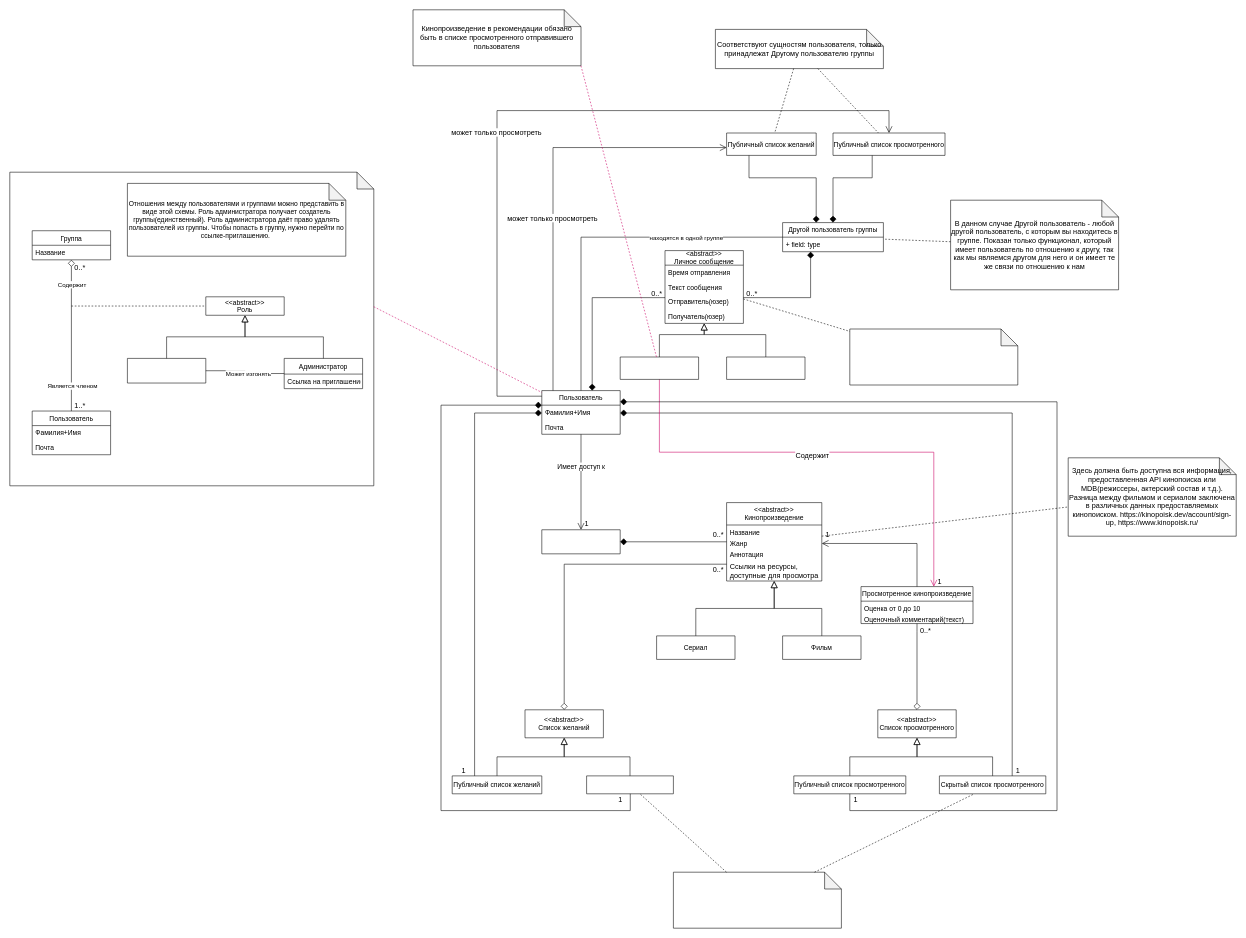
Some shapes in this 1246 by 938 pixel diagram are drawn without their labels. Each missing label, with the centre of its shape:
Глобальный каталог: (580,541)
Личное сообщение не может существовать без отправителя И получателя: (933,356)
Недоступны для любых других пользователей: (757,900)
Простое сообщение: (765,367)
Простой участник: (166,370)
Рекомендация: (659,367)
Скрытый список желаний: (629,784)
